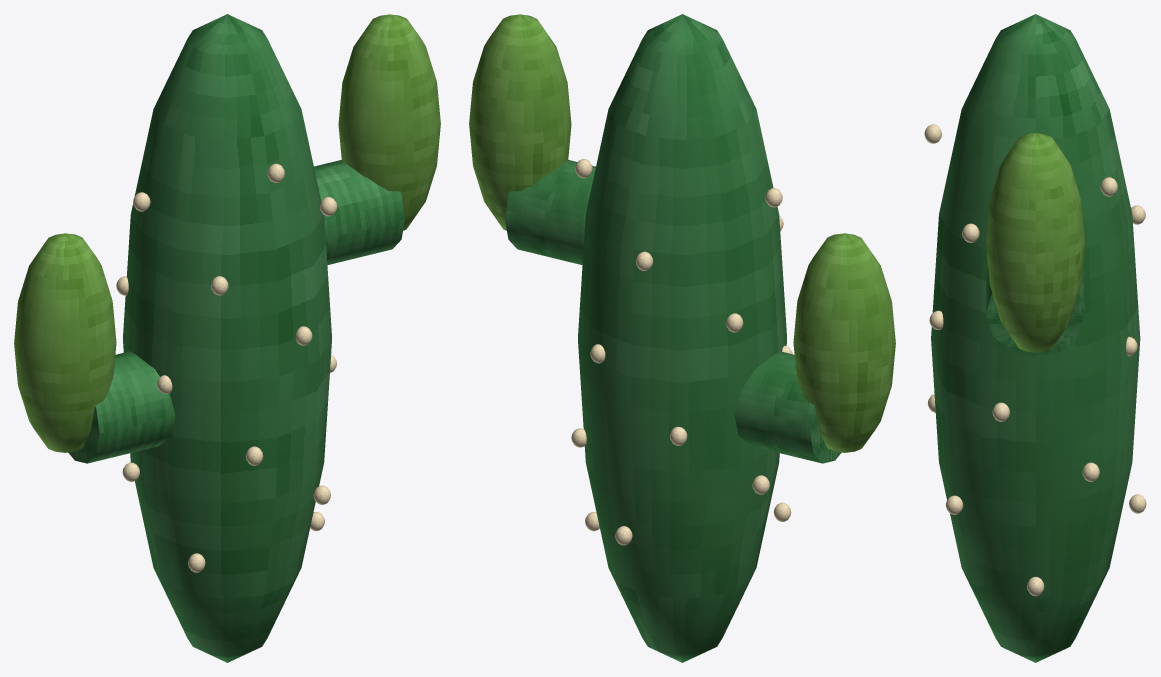
File: desert-cactus.glb
3 renders of one model, left to right at view 1: azimuth 30°, elevation 25°; view 2: azimuth 150°, elevation 25°; view 3: azimuth 270°, elevation 25°, orthographic.
Visible parts, largest first — view 1: stem, shoot (×2), arm (×2); view 2: stem, shoot (×2), arm (×2); view 3: stem, shoot, arm.
Boxes of the visible parts, left/top/right/bottom form: stem: left=123, top=14, right=331, bottom=662; shoot (×2): left=14, top=14, right=440, bottom=452; arm (×2): left=68, top=160, right=404, bottom=463; stem: left=578, top=14, right=786, bottom=662; shoot (×2): left=469, top=14, right=895, bottom=452; arm (×2): left=505, top=160, right=841, bottom=463; stem: left=931, top=14, right=1140, bottom=662; shoot: left=986, top=133, right=1085, bottom=352; arm: left=986, top=268, right=1085, bottom=357.
Size of the model in its own units: 0.868 by 1.3 by 0.4032.
3 materials, 3 textured.
